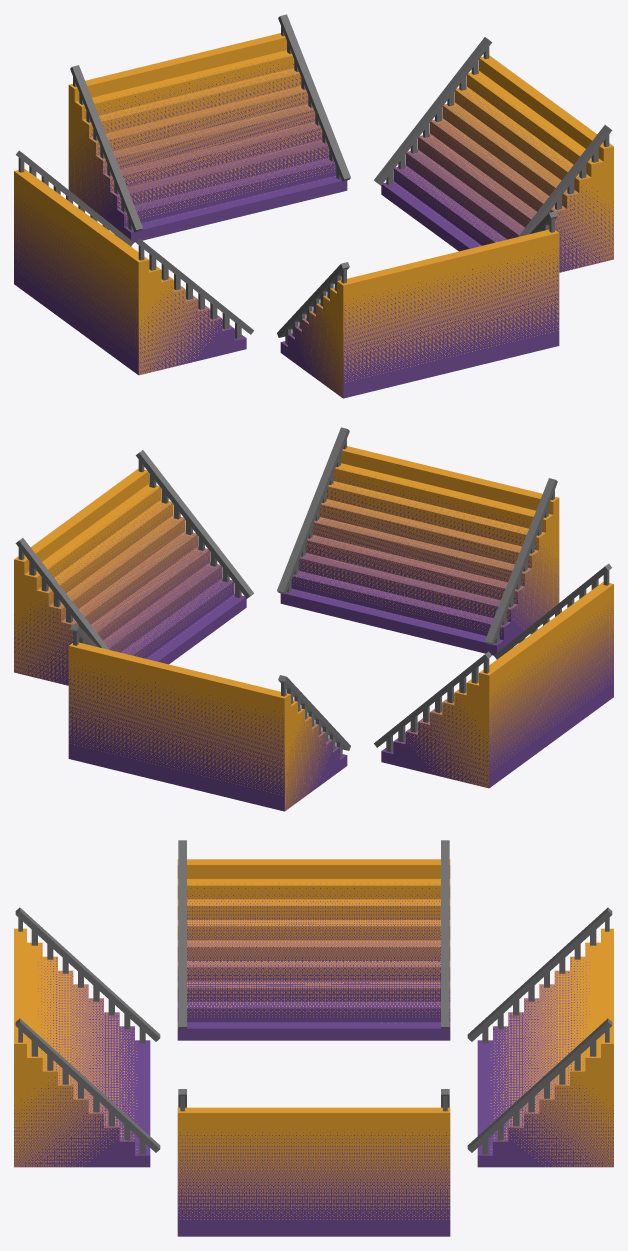
Rendered from Gradas.fbx.
3 renders of one model, top to bottom at view 1: azimuth 30°, elevation 25°; view 2: azimuth 150°, elevation 25°; view 3: azimuth 270°, elevation 25°, orthographic. The views are drawn at different scales.
Visible parts, largest first — view 1: Gradas; view 2: Gradas; view 3: Gradas.
Boxes of the visible parts, box(x1,y1,x2,y2) form: Gradas: box(14, 14, 613, 398); Gradas: box(14, 427, 613, 811); Gradas: box(14, 840, 613, 1236).
Bounding box in the file's own units: 4400 × 1175 × 4400.
Materials: 2 (1 with a texture image).
